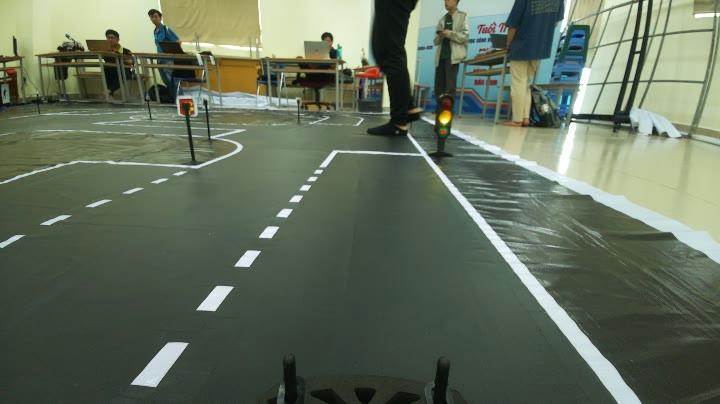trafficlight: (423, 90, 461, 163)
